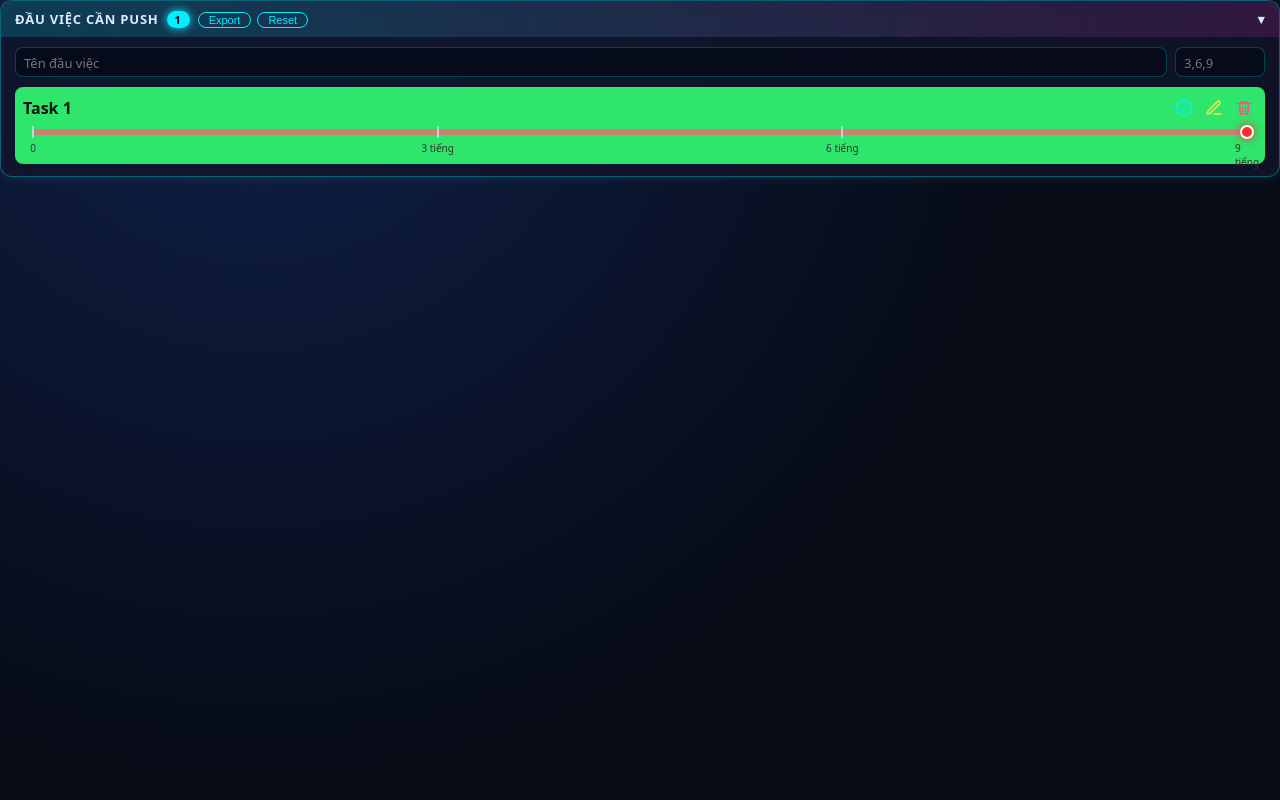
it: PushTaskPanel › bấm xóa hiện hộp xác nhận, chưa xóa ngay; Hủy thì không xóa
Check: the text "Task 1" is shown, box top-left (23, 97), bottom-right (72, 119)
Click the button named "Xóa đầu việc": (1244, 108) top-left (1231, 95), bottom-right (1257, 121)
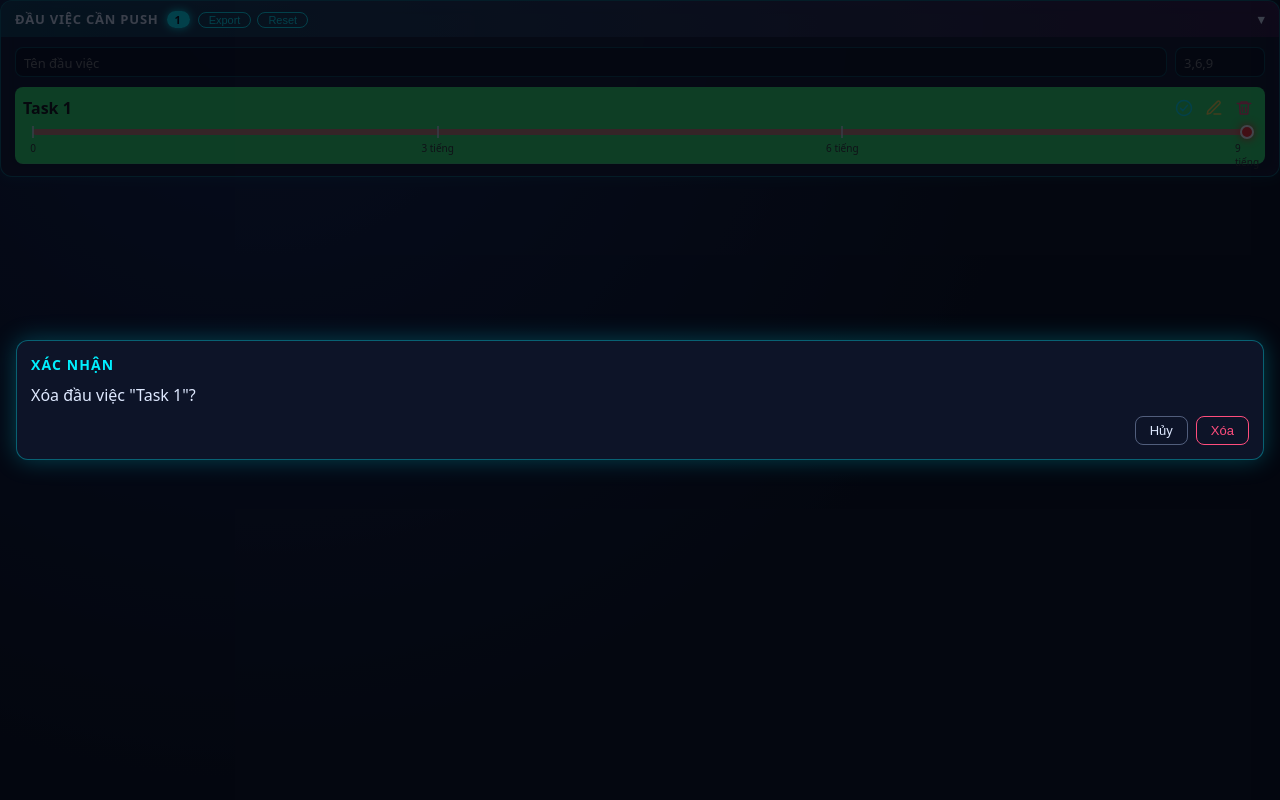
Check: the text "Xóa đầu việc \"Task 1\"?" is shown, box top-left (31, 384), bottom-right (196, 406)
Click the button "Hủy": (1161, 430) top-left (1135, 416), bottom-right (1188, 445)
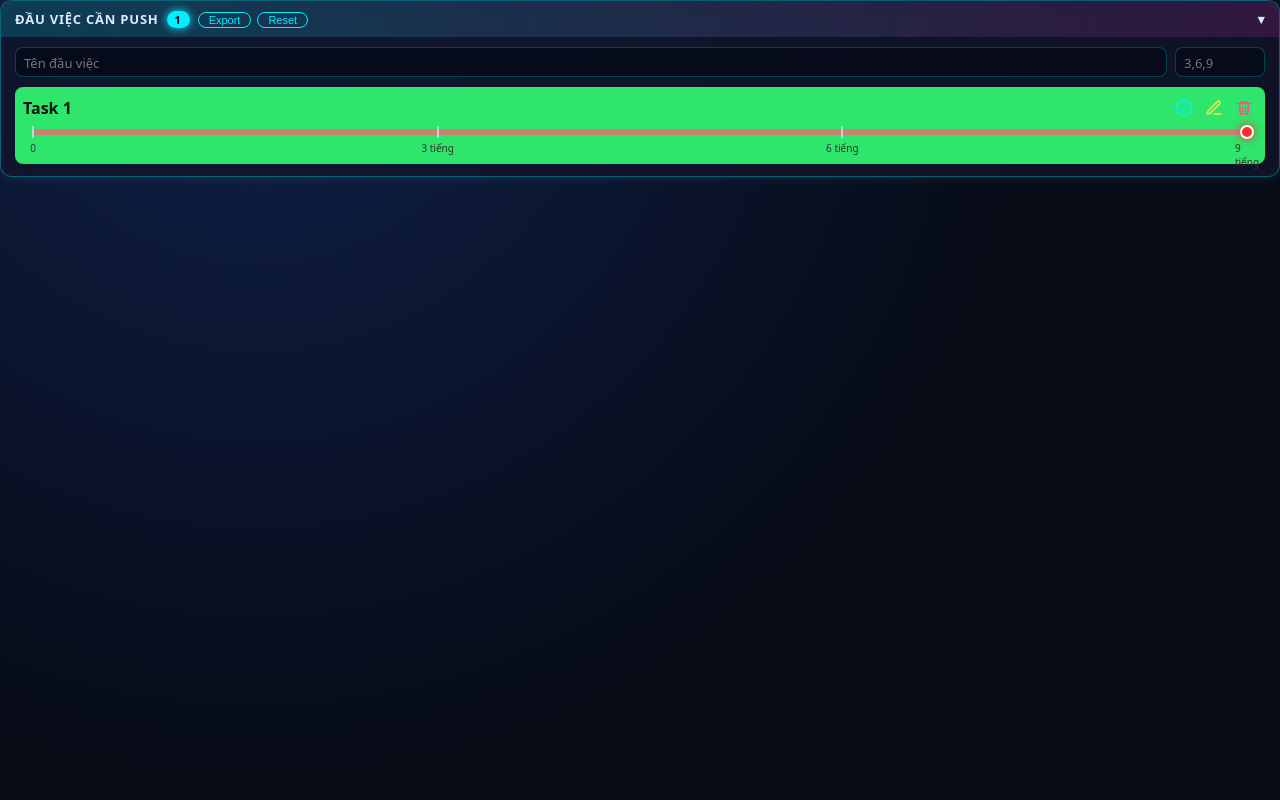
Check: the element with test id "push-task-row-1" is shown, box top-left (15, 87), bottom-right (1265, 164)
Check: the dialog is gone
